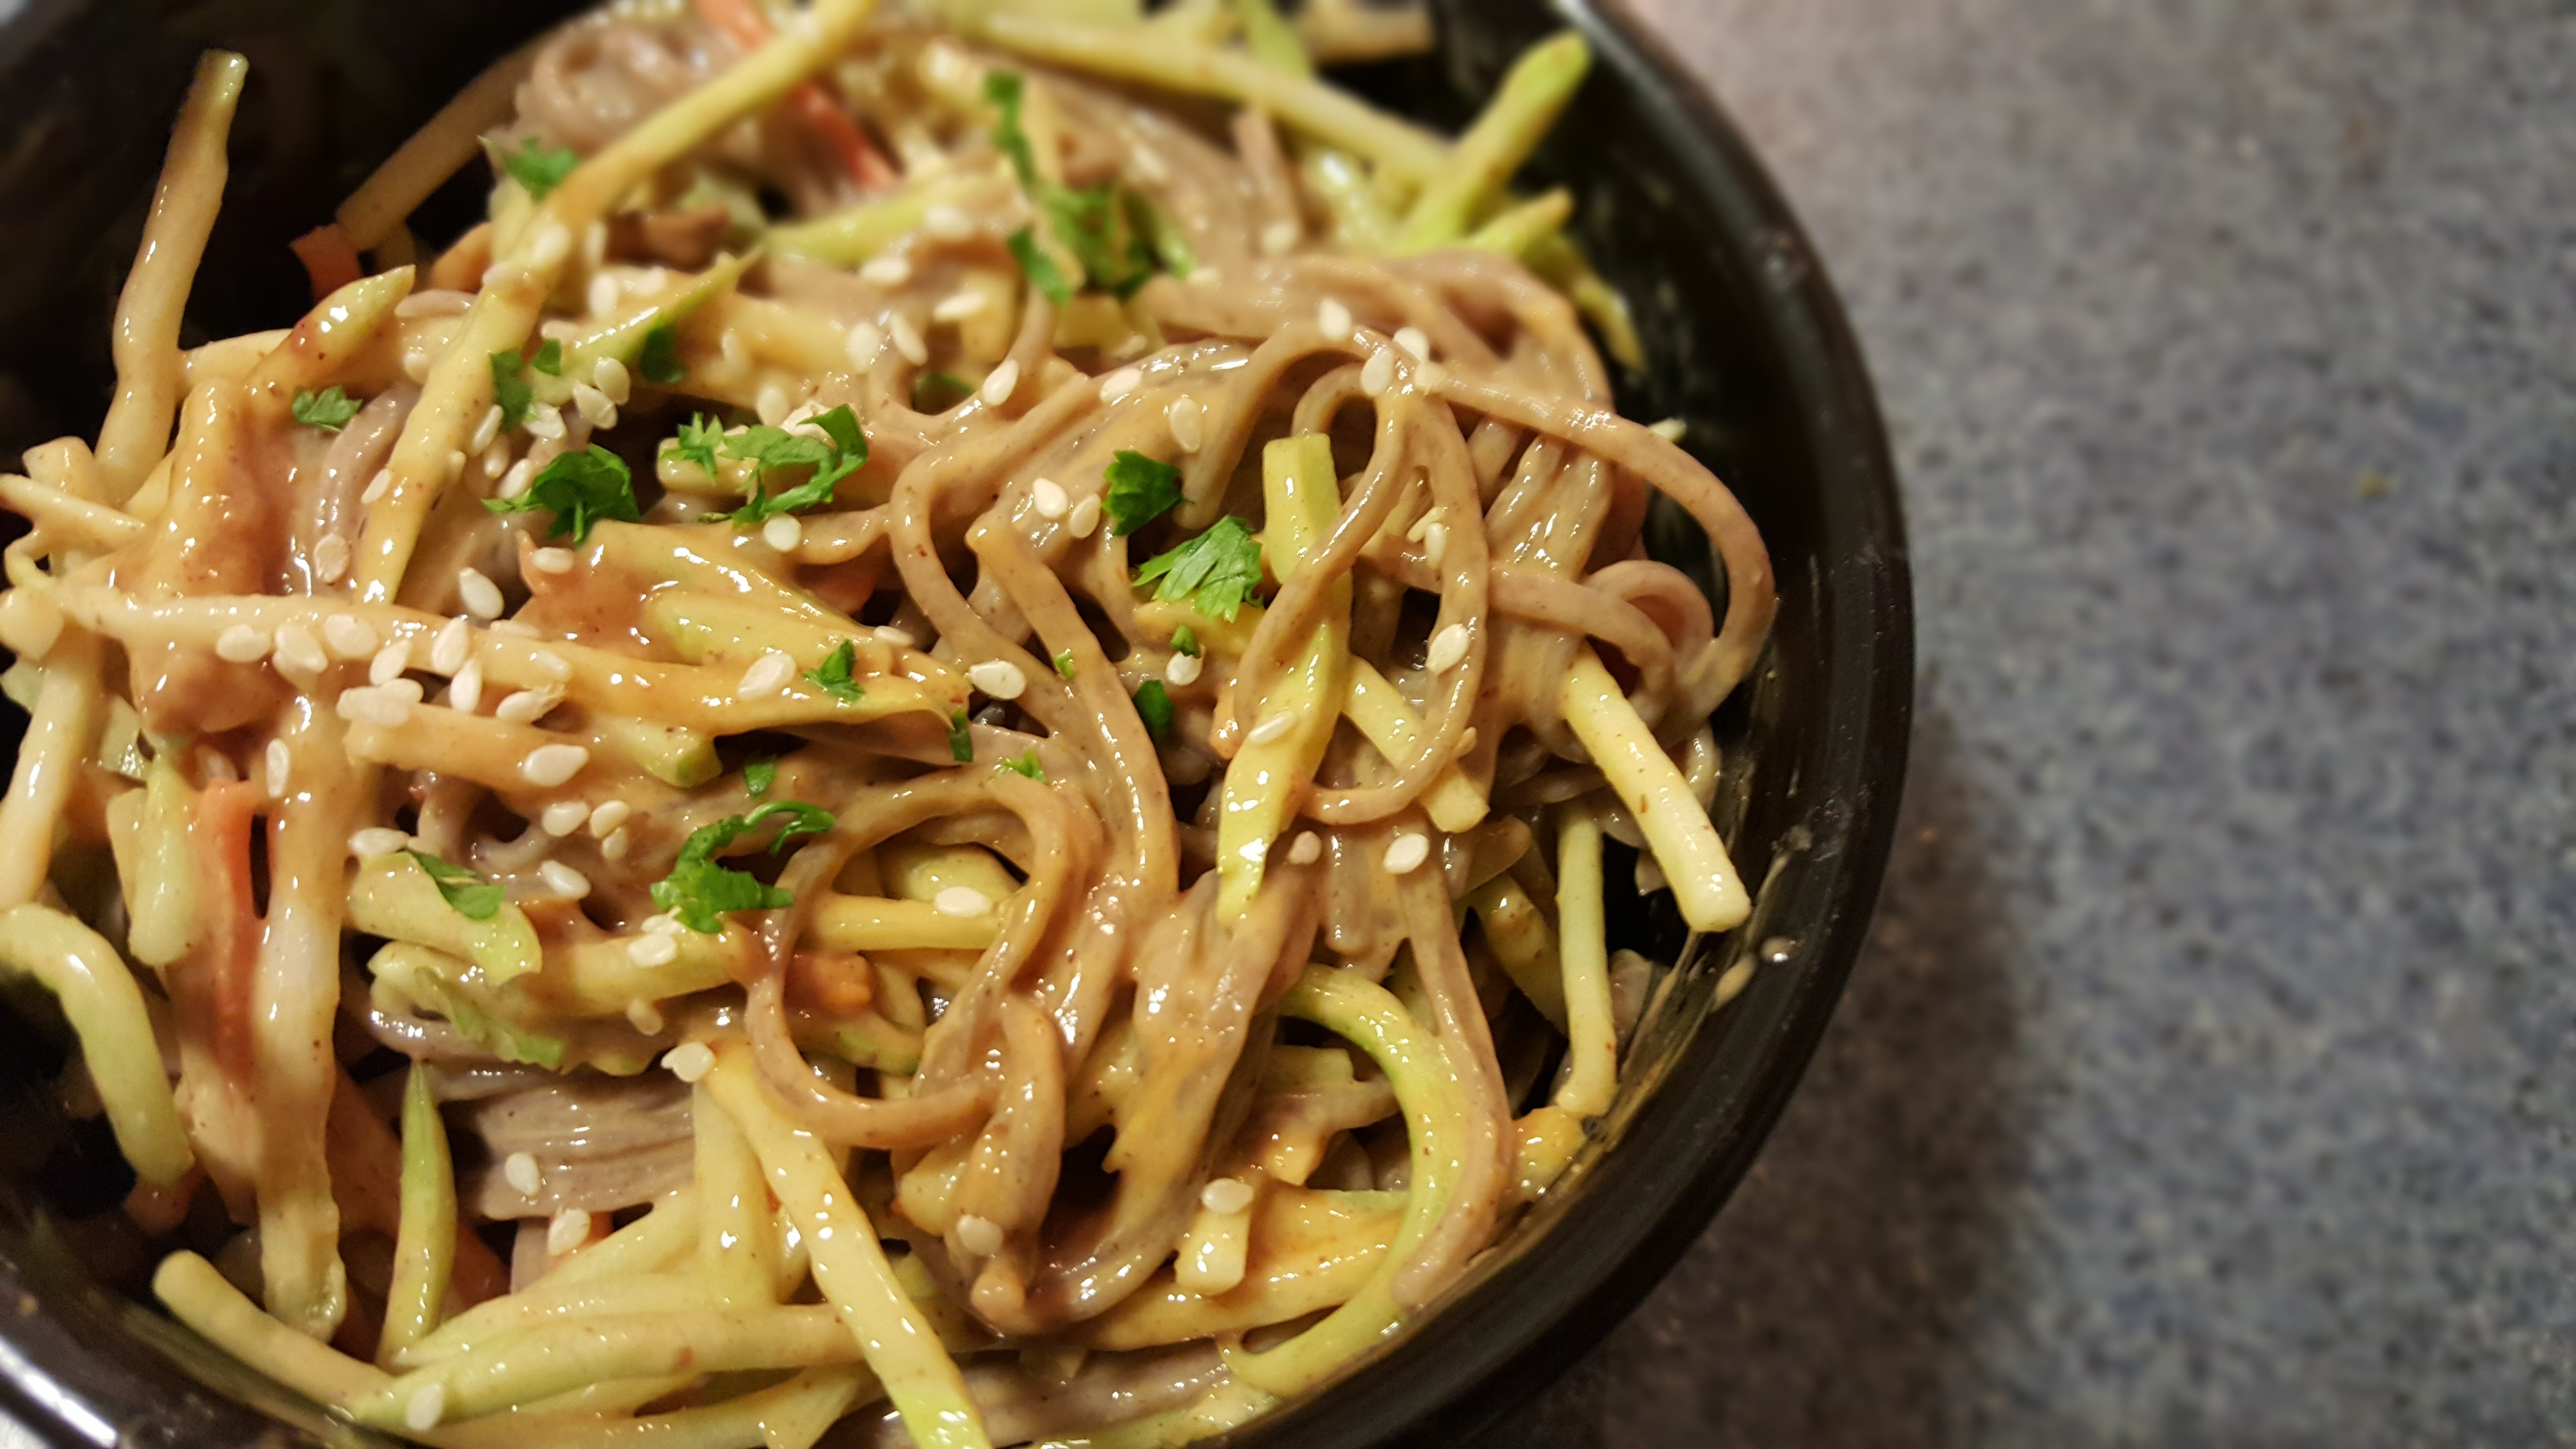Soba: (7, 32, 1739, 1399)
